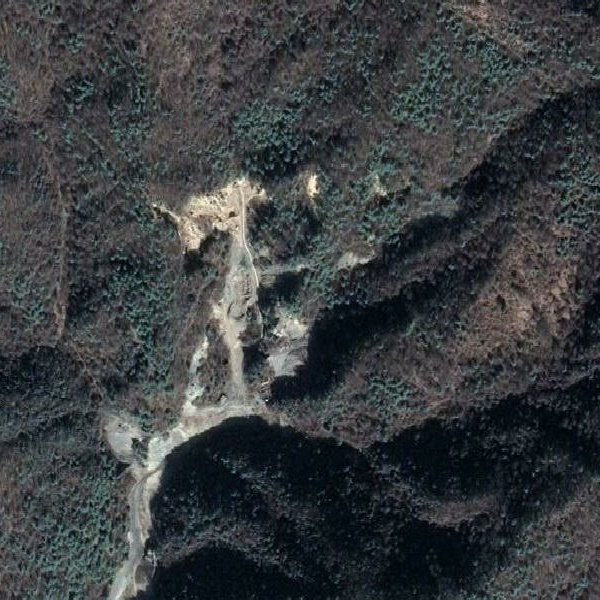slope: (159, 170, 276, 393), (102, 399, 249, 475), (262, 306, 309, 385)
